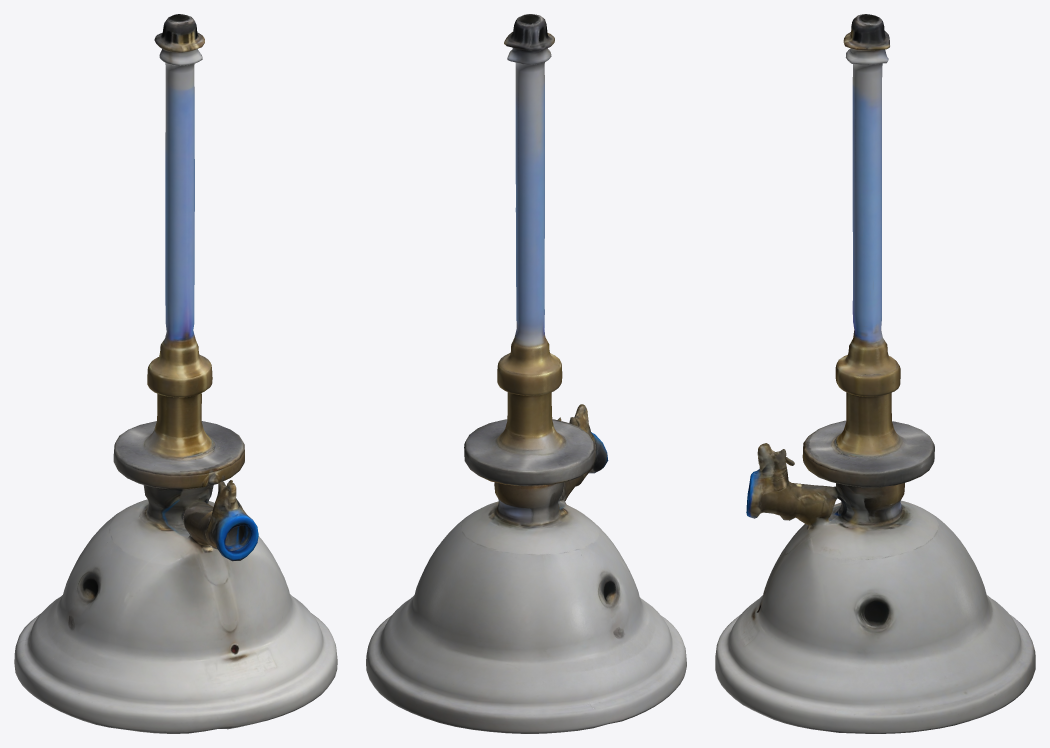
File: bunsen_burner.glb
3 views of the same model, side by side, from view 1: azimuth 30°, elevation 25°; view 2: azimuth 150°, elevation 25°; view 3: azimuth 270°, elevation 25° (orthographic).
Visible parts, largest first — view 1: Object_4; view 2: Object_4; view 3: Object_4.
Part boxes in pixels (box(x1,y1,x2,y2)): Object_4: box(14, 14, 337, 733); Object_4: box(366, 14, 686, 733); Object_4: box(715, 14, 1035, 733).
Size of the model in its own units: 0.8978 by 2 by 0.8956.
1 material, 1 textured.
